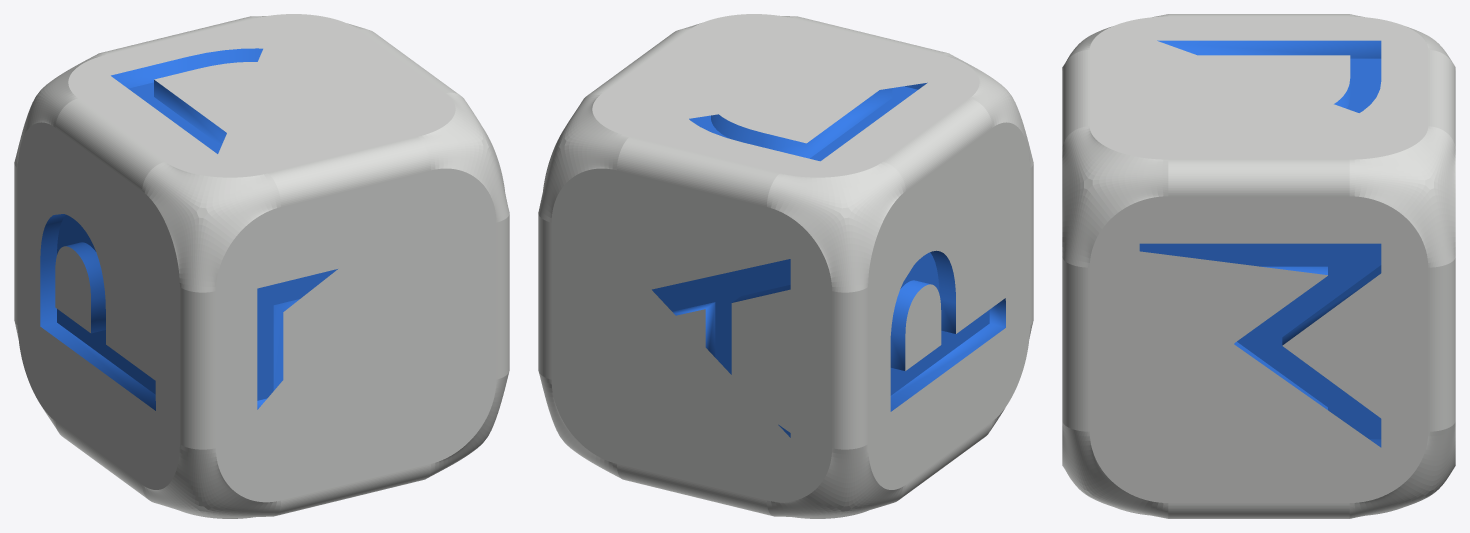
File: BoggleDice.fbx_Die15.fbx
The picture shows the model from 3 angles, left to right: view 1: azimuth 30°, elevation 25°; view 2: azimuth 150°, elevation 25°; view 3: azimuth 270°, elevation 25°; orthographic projection. The views are drawn at different scales.
Visible parts, largest first — view 1: Die15; view 2: Die15; view 3: Die15.
Part boxes in pixels (<box>): Die15: <box>14,14,509,518</box>; Die15: <box>538,14,1033,518</box>; Die15: <box>1062,14,1455,518</box>.
Size of the model in its own units: 200 by 200 by 200.
